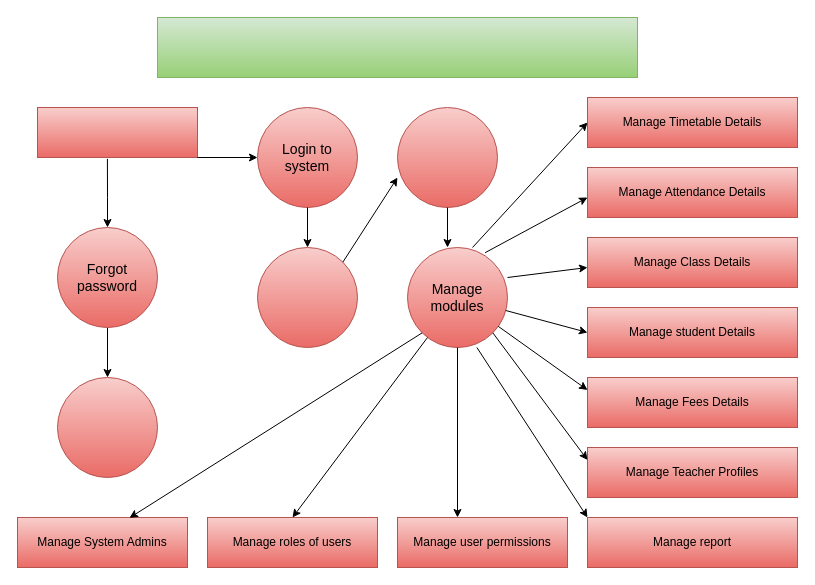
Image size: 815x585. Some labels were removed from this diagram. Here are the shapes that lost their labels. From the top down, the centre of each, then its label:
At point 397,47: "STUDENT INFORMATION SYSYTEM".
At point 117,132: "Admin".
At point 447,157: "Ceck roles of access".
At point 307,297: "Check credentials".
At point 107,427: "Send email to user".
